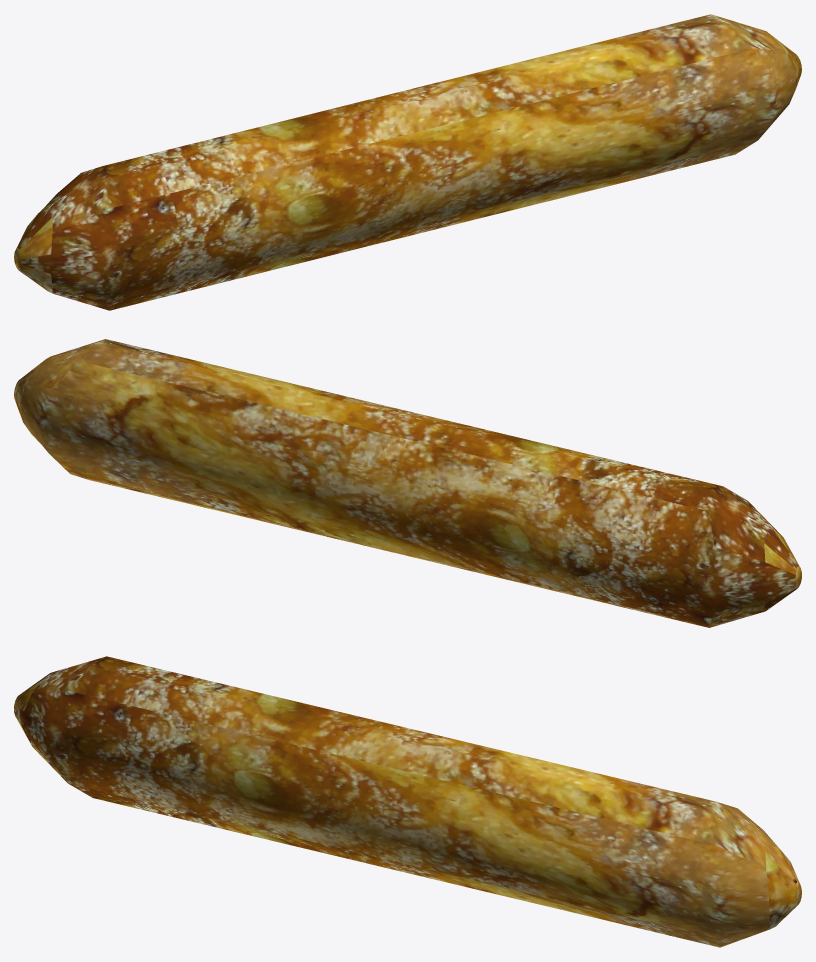
File: Gbread.FBX
3 renders of one model, top to bottom at view 1: azimuth 30°, elevation 25°; view 2: azimuth 150°, elevation 25°; view 3: azimuth 330°, elevation 25°, orthographic.
Parts seen in each view (by area): view 1: Cylinder001; view 2: Cylinder001; view 3: Cylinder001.
Part boxes in pixels (x1,y1,x2,y2): Cylinder001: [14, 14, 801, 310]; Cylinder001: [14, 339, 801, 627]; Cylinder001: [14, 656, 801, 947].
Bounding box in the file's own units: 2878 × 491 × 366.
1 material, 1 textured.
